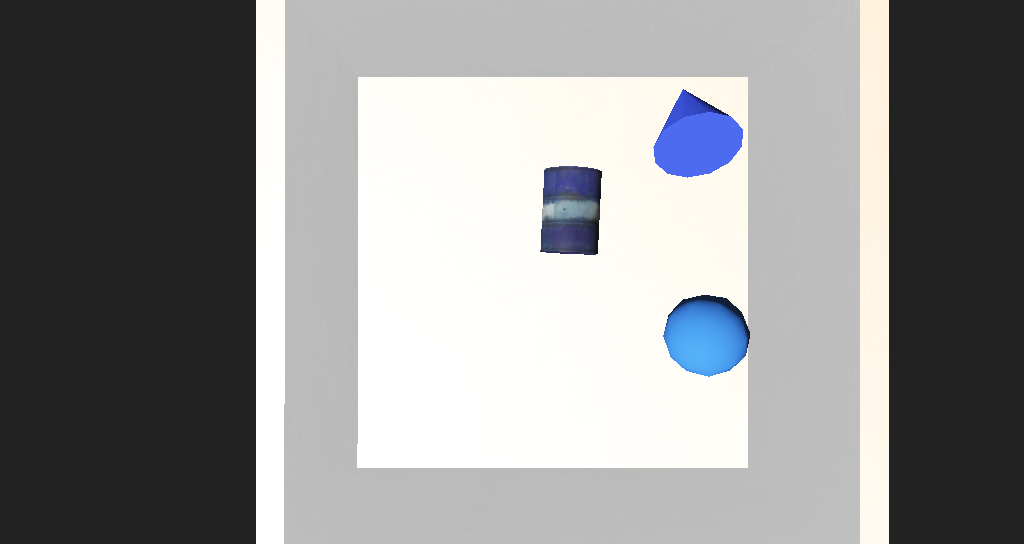cone: (492, 210, 546, 258)
cylinder: (576, 143, 650, 220)
sphere: (586, 277, 653, 324)
